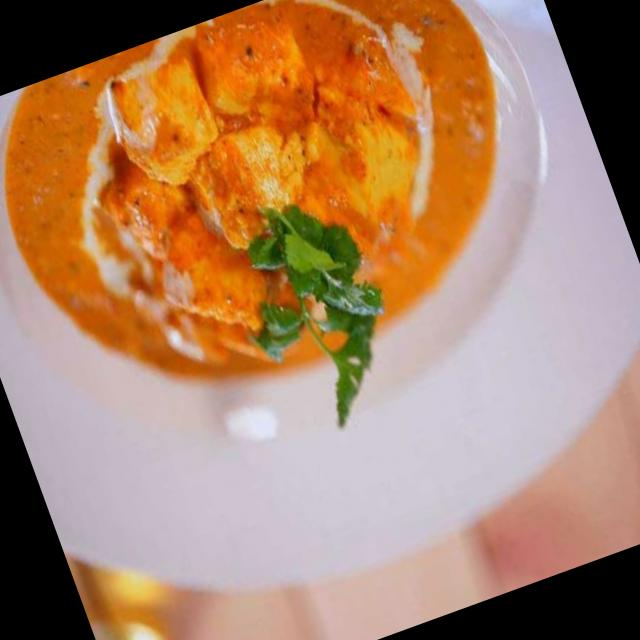ShahiPaneer: (0, 0, 569, 451)
